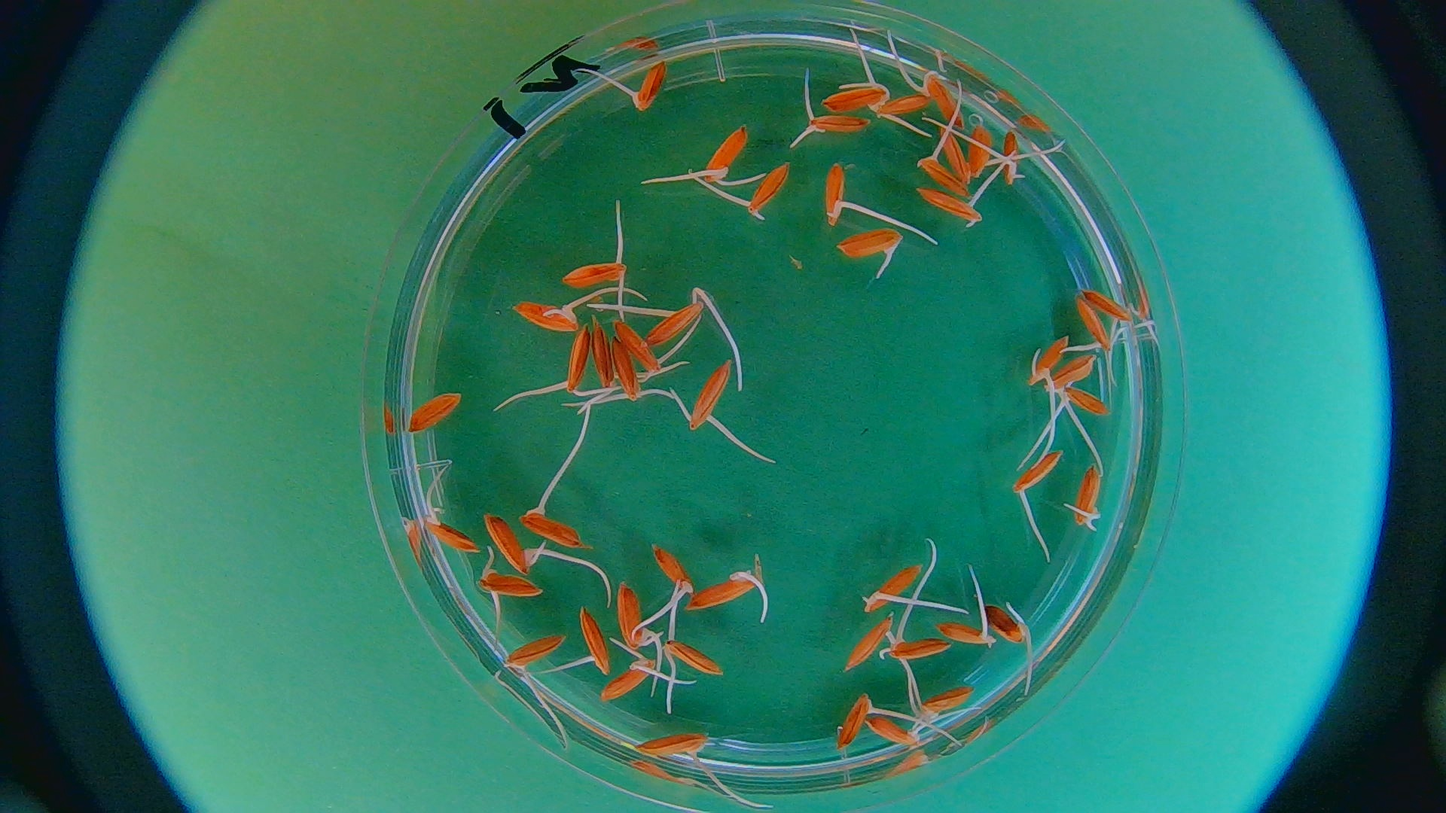no: (407, 392, 463, 431), (586, 318, 616, 385), (939, 130, 974, 184)
yes: (688, 357, 737, 428), (843, 611, 895, 673), (686, 571, 762, 613), (484, 518, 534, 579), (741, 160, 793, 214), (615, 315, 666, 370), (862, 566, 920, 614), (642, 298, 698, 346), (705, 123, 750, 181), (419, 513, 482, 553), (602, 658, 657, 703), (577, 604, 615, 669), (636, 728, 713, 760), (663, 638, 722, 679), (650, 543, 693, 598), (913, 683, 975, 721), (506, 635, 567, 673), (918, 187, 982, 223), (610, 338, 645, 403), (1017, 449, 1062, 499), (630, 57, 670, 111), (519, 513, 584, 546), (837, 226, 902, 259), (1026, 333, 1068, 384), (821, 80, 889, 111), (837, 693, 875, 748), (561, 327, 592, 394), (517, 303, 586, 333), (920, 72, 960, 123), (1083, 285, 1135, 324), (613, 580, 644, 645), (881, 634, 948, 664), (916, 151, 966, 191), (1074, 297, 1109, 354), (564, 258, 625, 290), (1072, 466, 1102, 528), (989, 602, 1033, 644), (819, 163, 851, 220), (474, 575, 544, 601), (1057, 385, 1108, 419), (1051, 353, 1100, 388), (804, 112, 872, 137), (937, 617, 990, 647), (970, 125, 998, 181), (883, 93, 929, 126), (868, 716, 921, 744), (1003, 129, 1026, 185)
